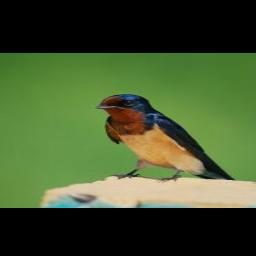Swallow: (94, 93, 237, 183)
